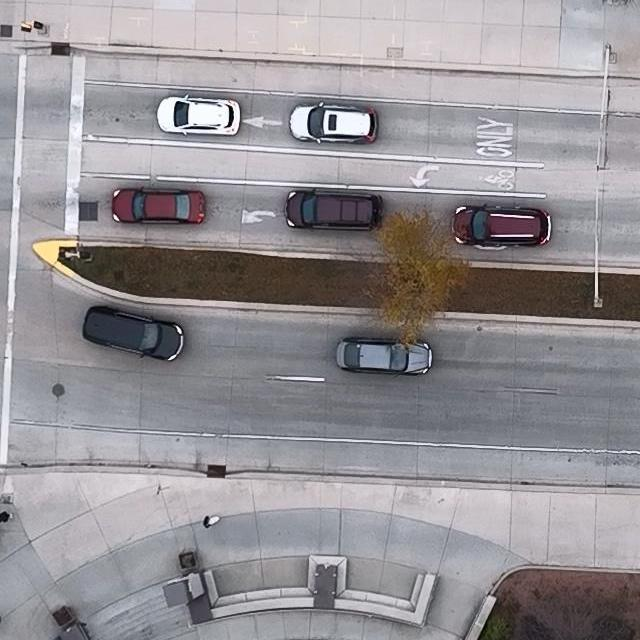car: (82, 304, 184, 360), (451, 202, 551, 249), (283, 190, 384, 231), (111, 184, 206, 225), (289, 101, 379, 143), (336, 337, 433, 375), (156, 94, 242, 136)
